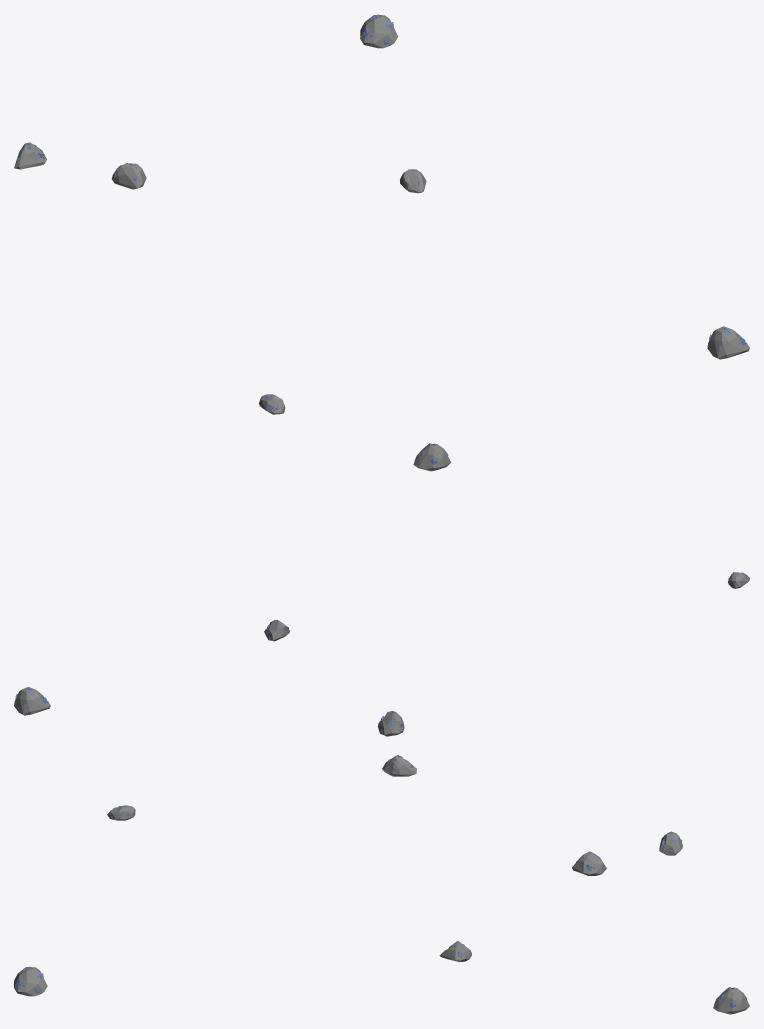
File: rock-package-03.fbx
3 renders of one model, top to bottom at view 1: azimuth 30°, elevation 25°; view 2: azimuth 150°, elevation 25°; view 3: azimuth 270°, elevation 25°, orthographic. The views are drawn at different scales.
Parts seen in each view (by area): view 1: mainRock, mainRock.004, mainRock.002; view 2: mainRock.004, mainRock; view 3: mainRock.004, mainRock, mainRock.002, mainRock.001, mainRock.003.
Boxes of the visible parts, x1,y1,x2,y2 form: mainRock: (360,14,398,48); mainRock.004: (707,326,749,359); mainRock.002: (111,163,146,189); mainRock.004: (413,443,450,471); mainRock: (14,687,50,715); mainRock.004: (14,966,47,996); mainRock: (713,987,749,1014); mainRock.002: (572,851,606,875); mainRock.001: (659,831,682,855); mainRock.003: (439,941,471,961).
Size of what is drawn, in the model's own units: 7718 by 492 by 11712.
